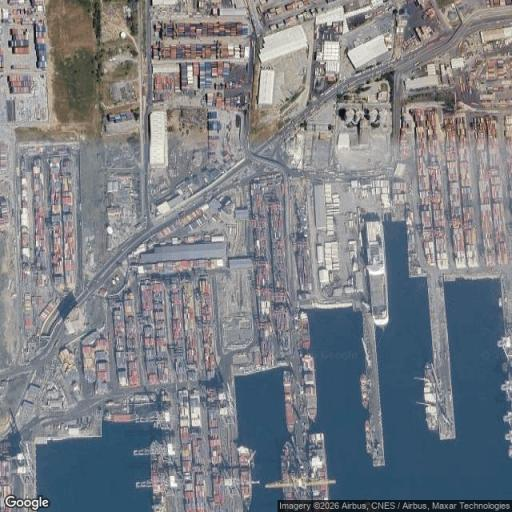ship: (367, 221, 389, 332), (309, 435, 330, 499), (237, 445, 252, 510), (303, 356, 316, 421), (425, 363, 437, 430), (151, 442, 162, 510), (284, 371, 295, 433), (104, 413, 135, 424), (301, 313, 309, 350), (361, 373, 368, 408), (365, 420, 372, 452)
